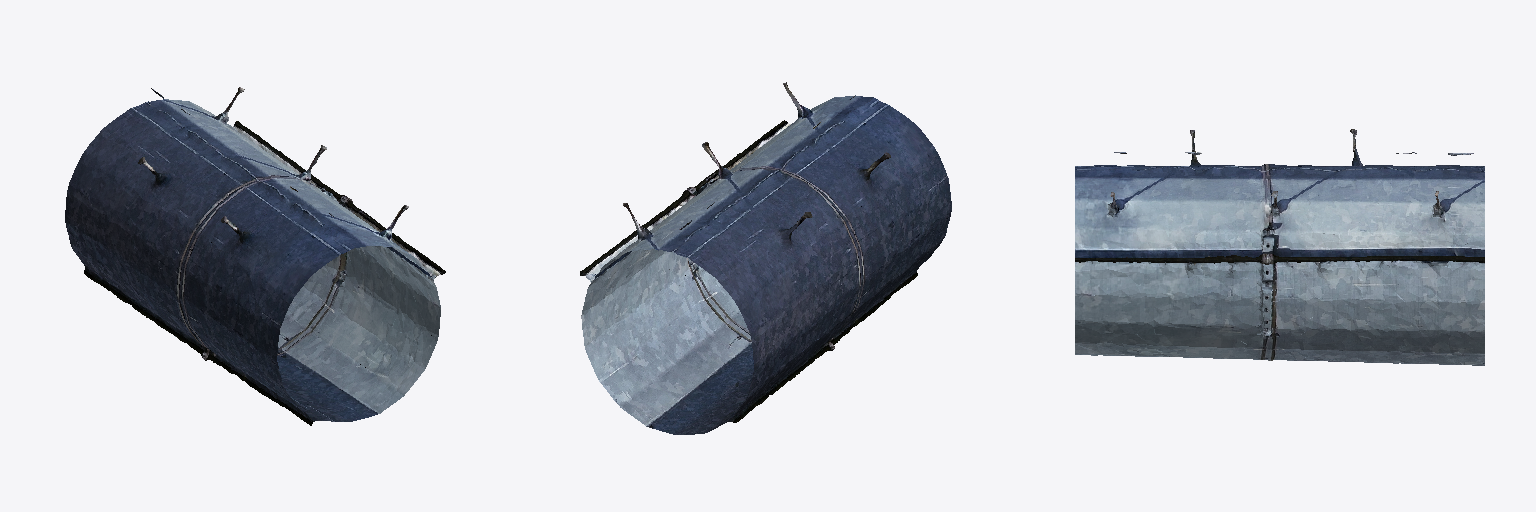
3 renders of one model, left to right at view 1: azimuth 30°, elevation 25°; view 2: azimuth 150°, elevation 25°; view 3: azimuth 270°, elevation 25°, orthographic.
Bounding box in the file's own units: 0.8903 × 0.9748 × 1.78.
Materials: 2 (1 with a texture image).